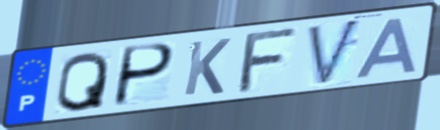A: (352, 15, 421, 81)
F: (233, 25, 302, 97)
K: (180, 36, 234, 98)
P: (110, 42, 178, 109)
Q: (53, 49, 111, 114)
V: (305, 15, 365, 89)
